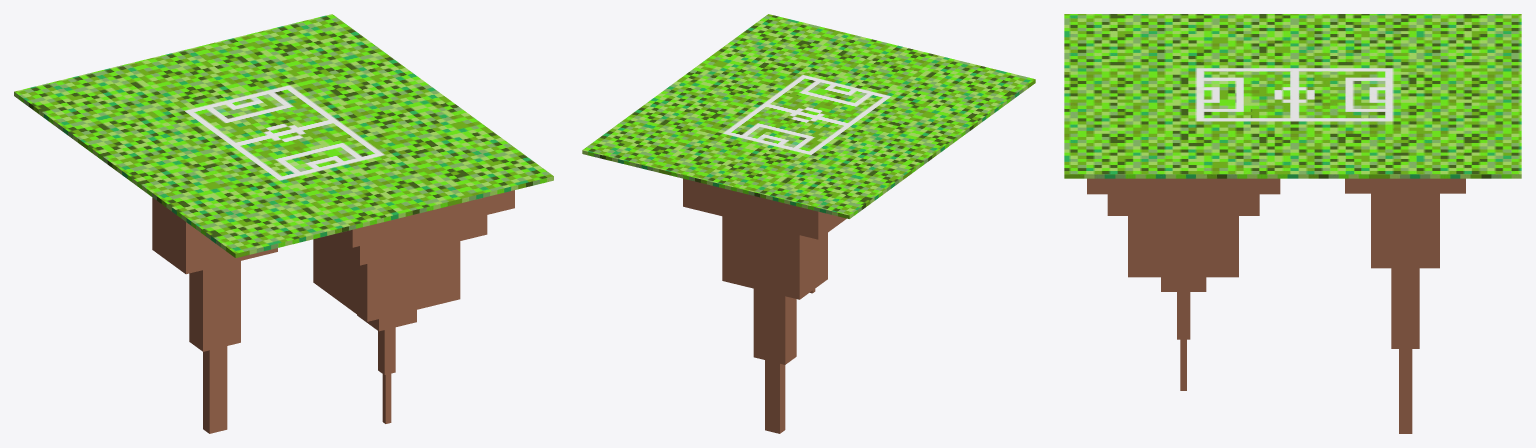
Rendered from IslaFutbolblend.fbx.
3 views of the same model, side by side, from view 1: azimuth 30°, elevation 25°; view 2: azimuth 150°, elevation 25°; view 3: azimuth 270°, elevation 25° (orthographic). The views are drawn at different scales.
Parts seen in each view (by area): view 1: Cube; view 2: Cube; view 3: Cube.
Boxes of the visible parts, x1,y1,x2,y2 form: Cube: (14, 14, 553, 433); Cube: (582, 14, 1035, 433); Cube: (1064, 14, 1521, 433).
Bounding box in the file's own units: 3503 × 3492 × 4224.
